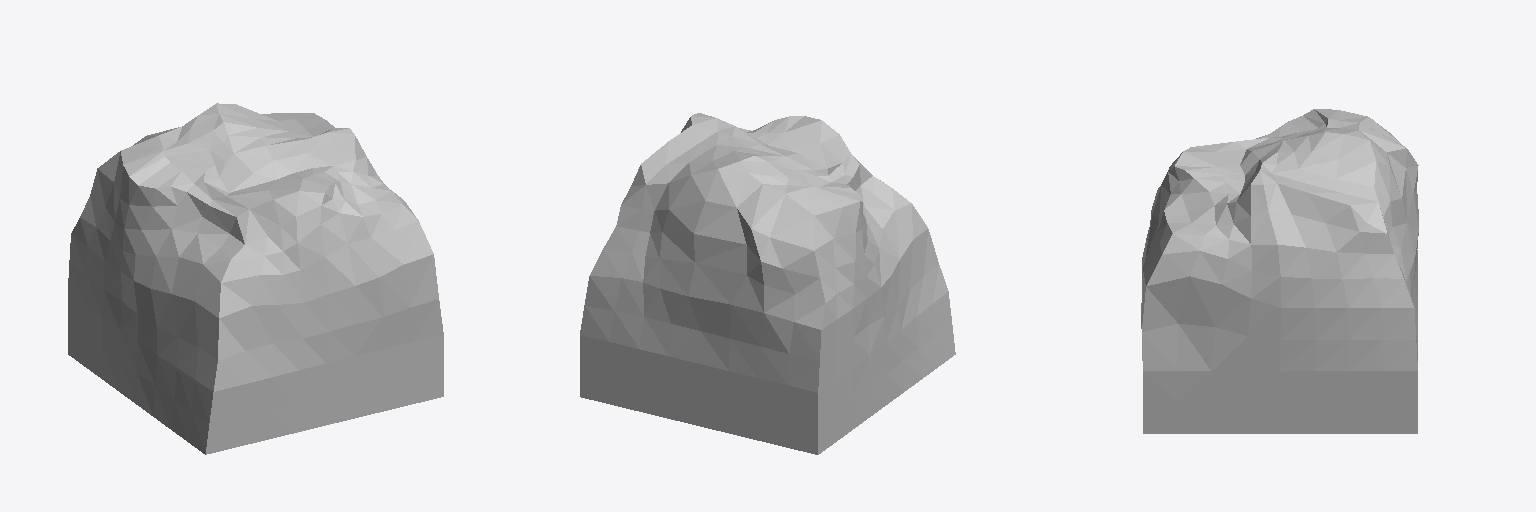
The model's file is wall-broken-tri - Copy.obj.
The picture shows the model from 3 angles: view 1: azimuth 30°, elevation 25°; view 2: azimuth 150°, elevation 25°; view 3: azimuth 270°, elevation 25°; orthographic projection.
Parts seen in each view (by area): view 1: Cube_Cube.001; view 2: Cube_Cube.001; view 3: Cube_Cube.001.
Boxes of the visible parts, box(x1,y1,x2,y2) form: Cube_Cube.001: box(68, 103, 443, 454); Cube_Cube.001: box(580, 113, 955, 454); Cube_Cube.001: box(1141, 109, 1418, 433).
Bounding box in the file's own units: 1 × 0.9591 × 1.01.